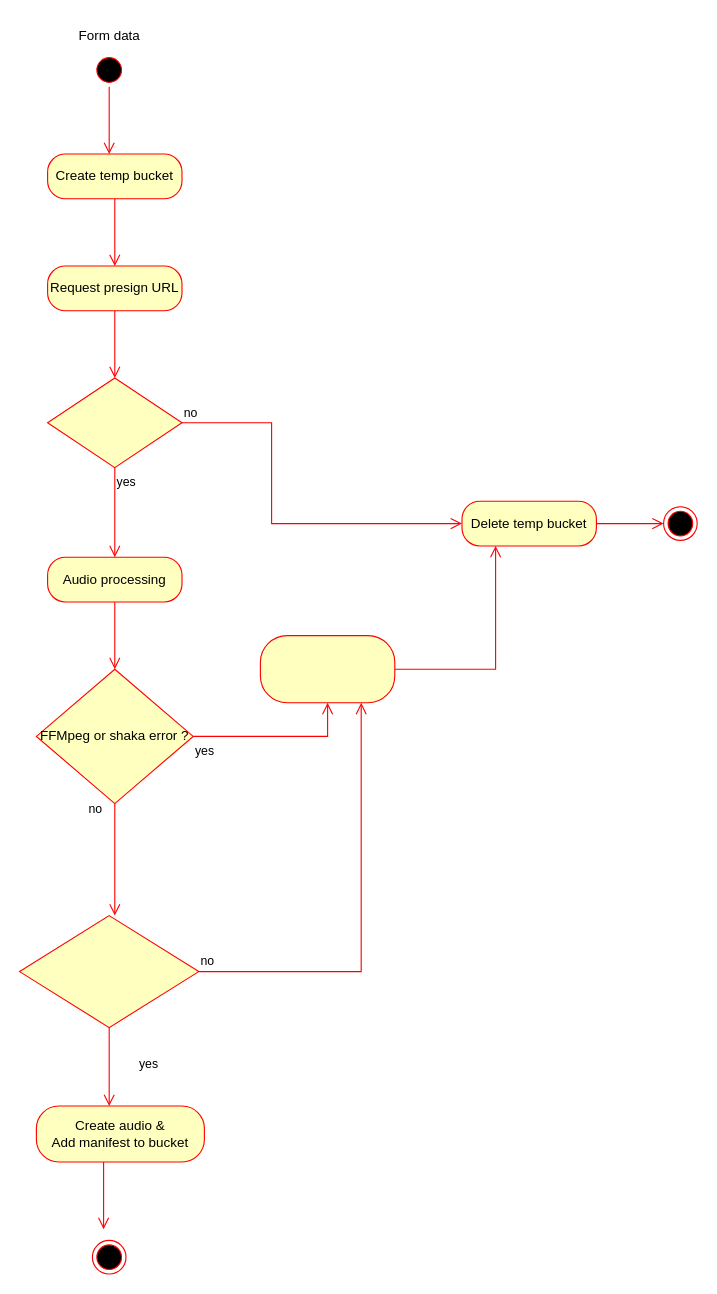
The diagram is 717 pixels wide and 1294 high, and some of its shapes have lost their labels. The centre of each missing label's shape, as x and y in pixels:
"Delete audio processing resources" goes at point 327,668.
"Upload result to object storage success ?" goes at point 108,971.
"Upload success ?" goes at point 114,422.
